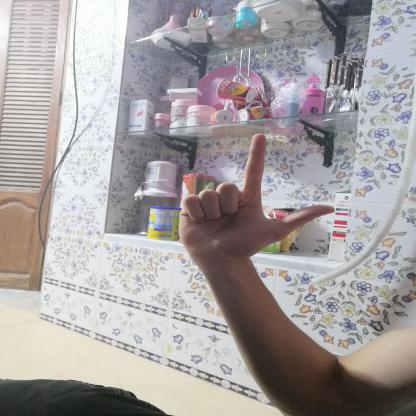LAAM: (163, 124, 348, 270)
